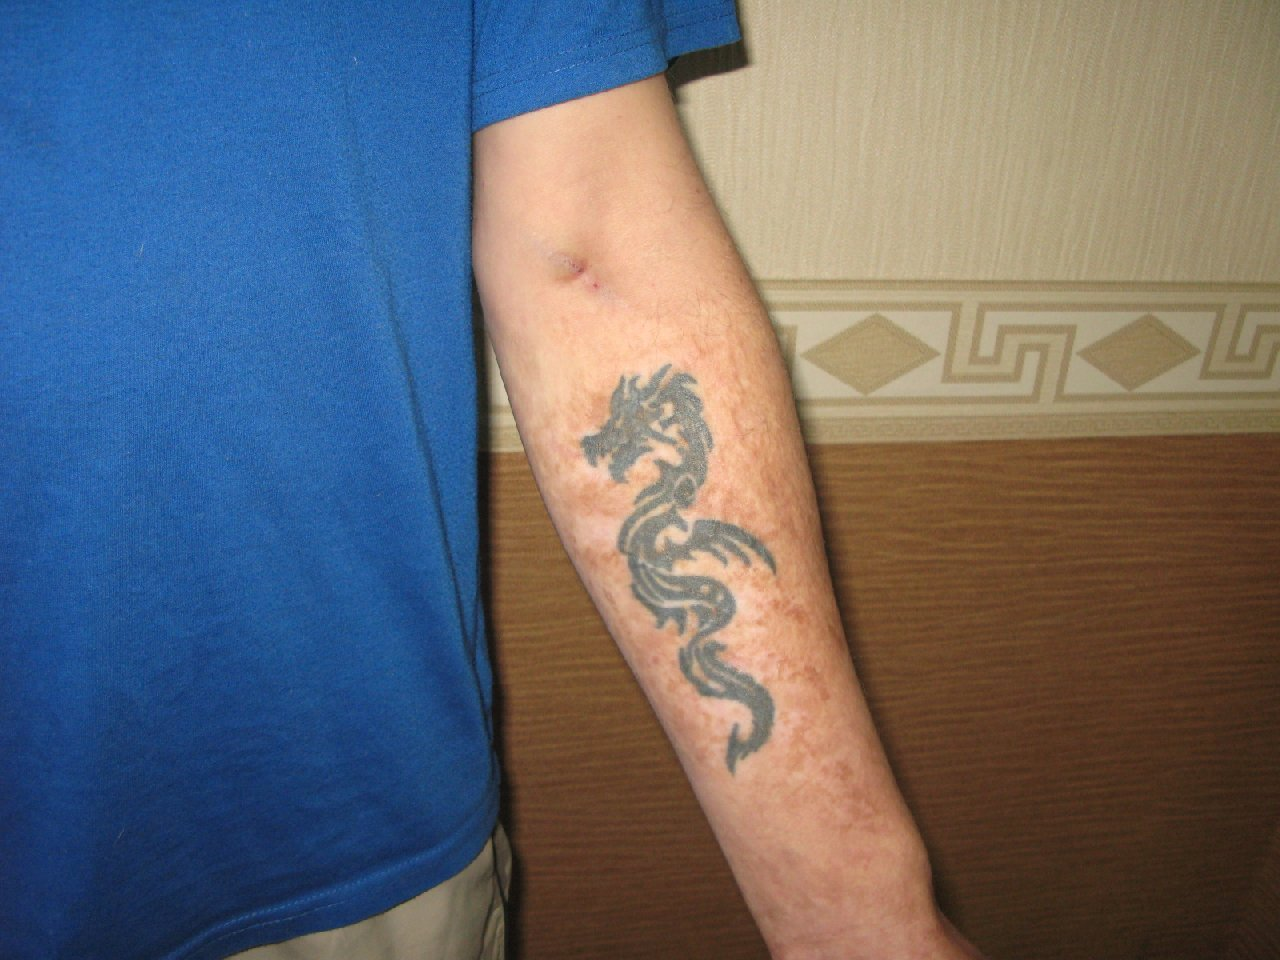tatu6_drakon: (537, 364, 826, 783)
